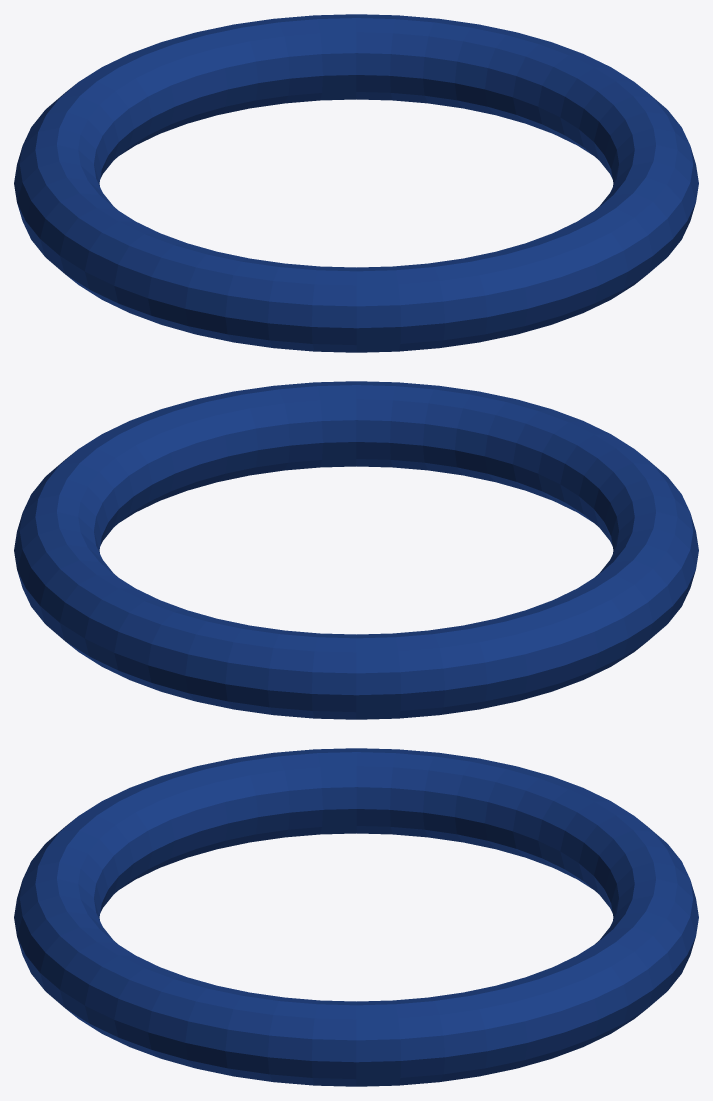
The model's file is Door-Ring.fbx.
3 renders of one model, top to bottom at view 1: azimuth 30°, elevation 25°; view 2: azimuth 150°, elevation 25°; view 3: azimuth 270°, elevation 25°, orthographic.
Parts seen in each view (by area): view 1: 环体.001; view 2: 环体.001; view 3: 环体.001.
Boxes of the visible parts, x1=… form: 环体.001: x1=14, y1=14, x2=698, y2=352; 环体.001: x1=14, y1=381, x2=698, y2=719; 环体.001: x1=14, y1=748, x2=698, y2=1086.
Size of the model in its own units: 80 by 10 by 80.
